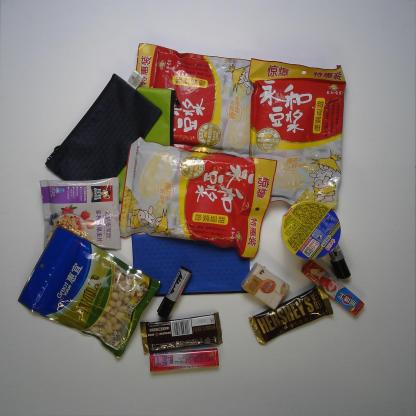Candy: (301, 259, 364, 316), (148, 349, 221, 372)
Chocolate: (247, 283, 332, 344), (140, 312, 224, 353)
Dried Fruit: (17, 225, 161, 359)
Instant Drink: (118, 132, 278, 257), (133, 42, 271, 159), (245, 54, 346, 211), (38, 178, 126, 250)
Instant Noodles: (280, 201, 342, 261)
Stationery: (44, 74, 162, 190), (129, 227, 254, 294), (116, 84, 178, 202), (157, 264, 193, 316), (326, 222, 352, 280)
Tissue: (244, 261, 291, 310)
